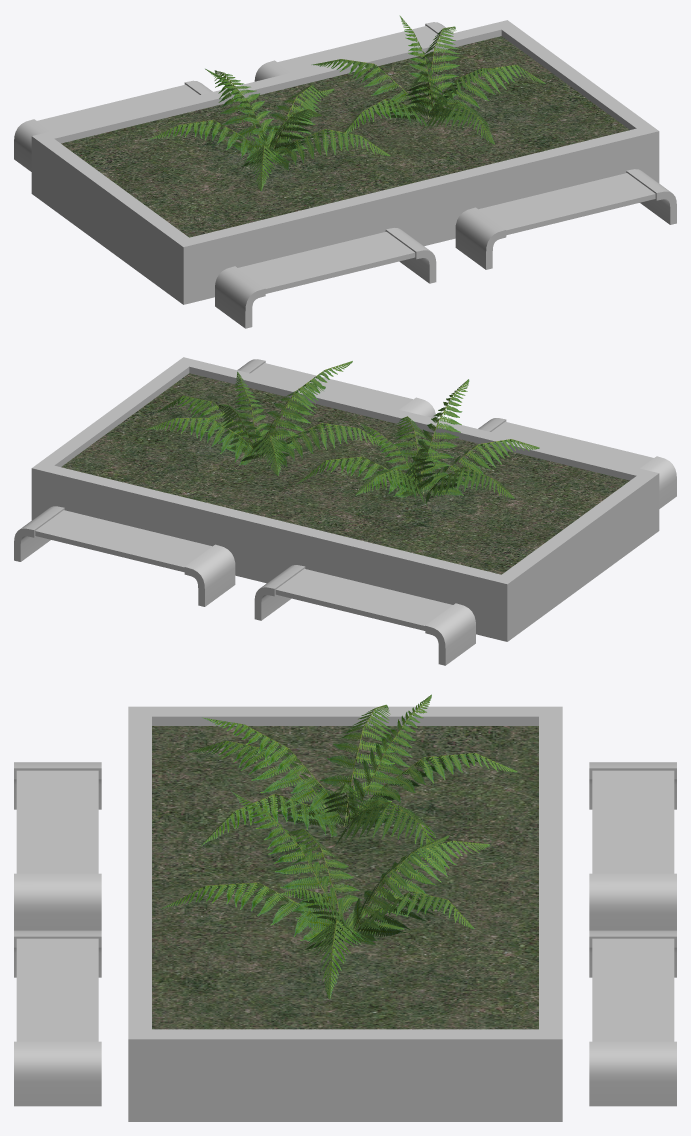
Rendered from Garden-01.fbx.
3 renders of one model, top to bottom at view 1: azimuth 30°, elevation 25°; view 2: azimuth 150°, elevation 25°; view 3: azimuth 270°, elevation 25°, orthographic. The views are drawn at different scales.
Parts seen in each view (by area): view 1: Garden-01, Garden-01-Grass; view 2: Garden-01, Garden-01-Grass; view 3: Garden-01, Garden-01-Grass.
Boxes of the visible parts, box(x1,y1,x2,y2) form: Garden-01: box(14, 15, 676, 328); Garden-01-Grass: box(61, 36, 629, 237); Garden-01: box(14, 357, 676, 665); Garden-01-Grass: box(61, 373, 629, 574); Garden-01: box(14, 694, 676, 1121); Garden-01-Grass: box(152, 726, 538, 1029).
Size of what is drawn, in the model's own units: 6.72 by 1.76 by 5.66.
